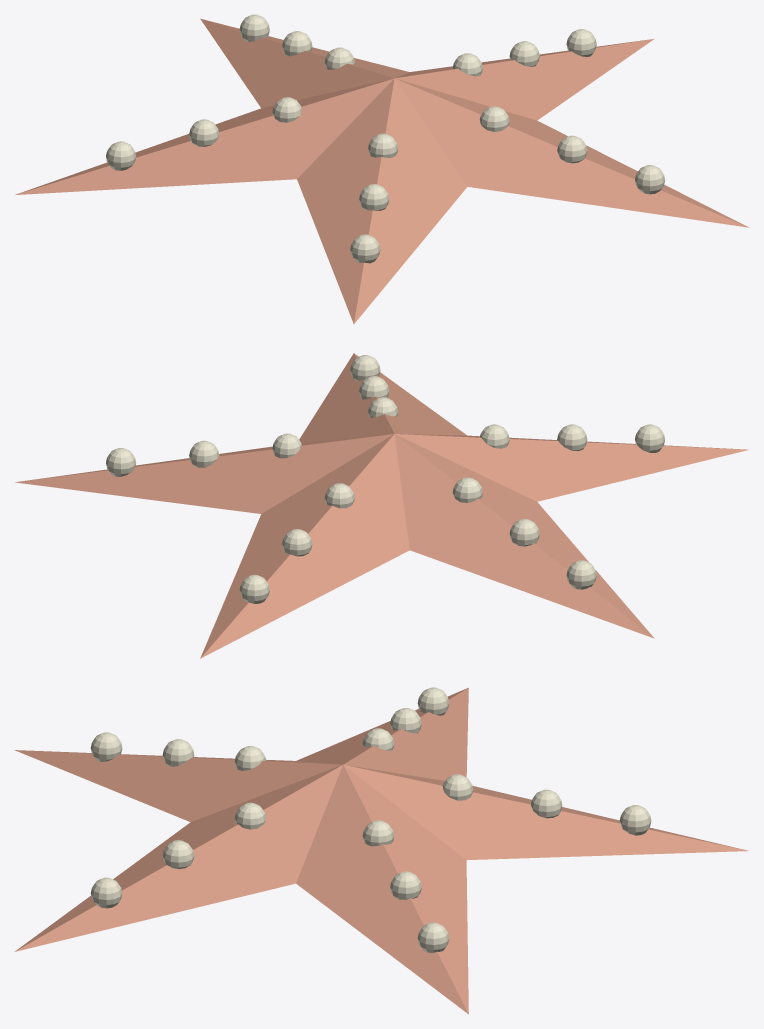
File: Starfish.fbx
3 views of the same model, one above another, from view 1: azimuth 30°, elevation 25°; view 2: azimuth 150°, elevation 25°; view 3: azimuth 270°, elevation 25° (orthographic). The views are drawn at different scales.
Visible parts, largest first — view 1: SM_Starfish; view 2: SM_Starfish; view 3: SM_Starfish.
Boxes of the visible parts, x1,y1,x2,y2 form: SM_Starfish: (15, 14, 749, 323); SM_Starfish: (15, 353, 748, 658); SM_Starfish: (14, 687, 748, 1014).
Bounding box in the file's own units: 1.22 × 0.15 × 1.16.
